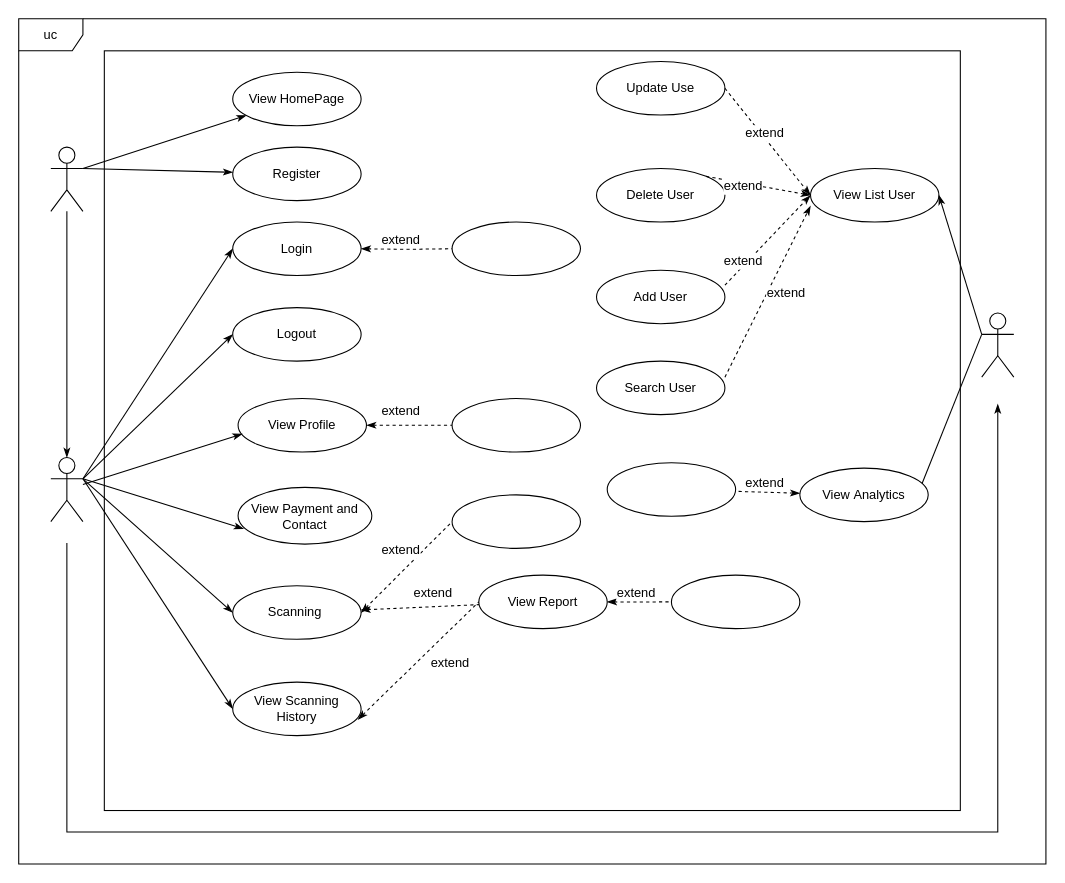
The diagram is 1065 pixels wide and 883 high, and some of its shapes have lost their labels. Each missing label, with the centre of its shape:
Admin: (997,344)
Edit Profile: (515,425)
Export Analytics report: (671,489)
Export Report: (735,601)
Forgot Password: (515,248)
Guest: (66,178)
User: (66,489)
View Result: (515,521)
